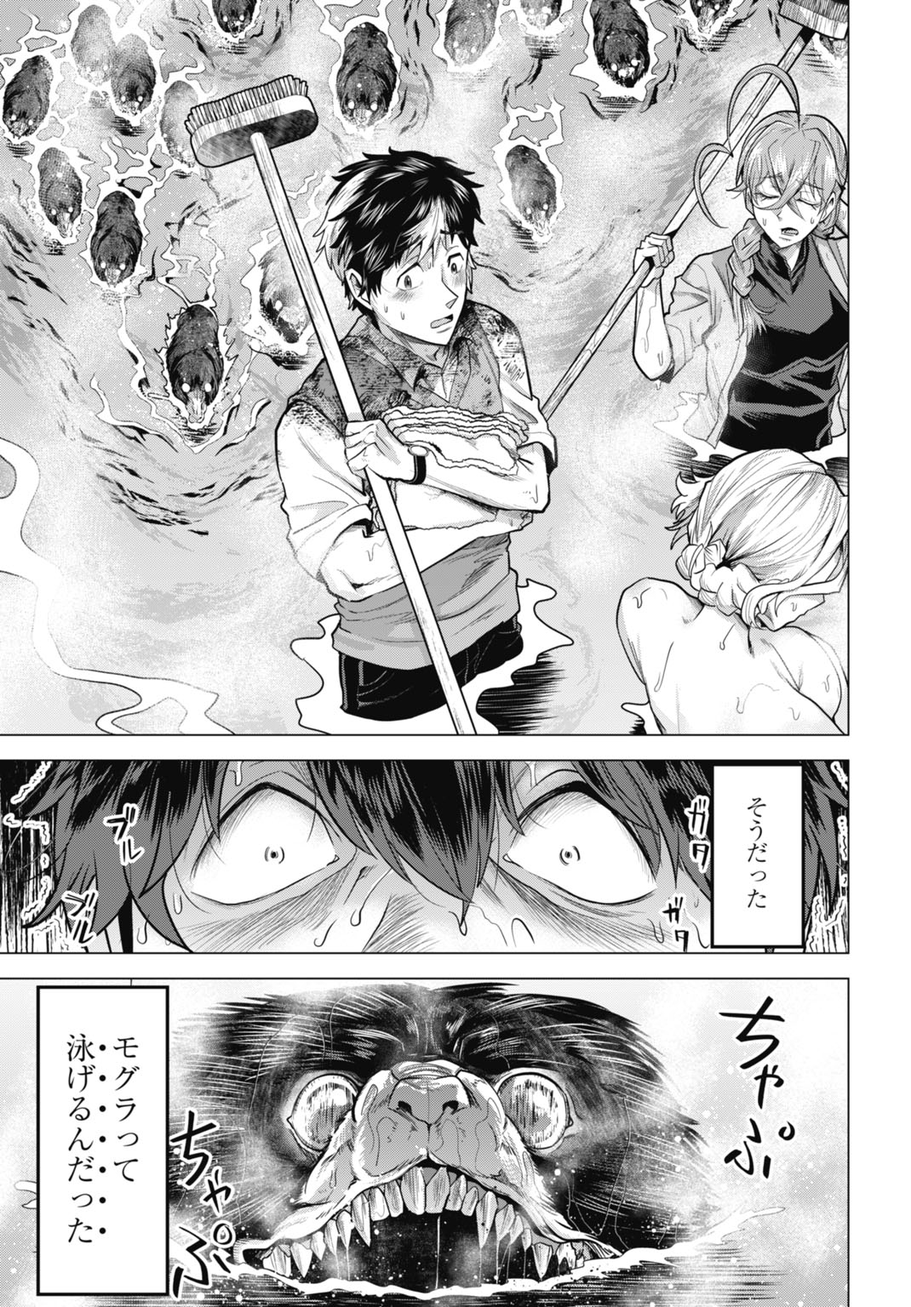bubbles: (32, 983, 174, 1299), (708, 762, 806, 951)
